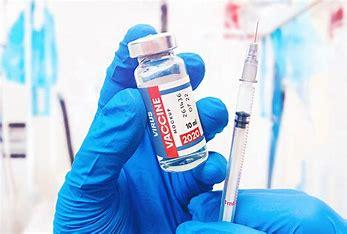Syringe: (123, 31, 212, 177), (220, 12, 264, 224)
